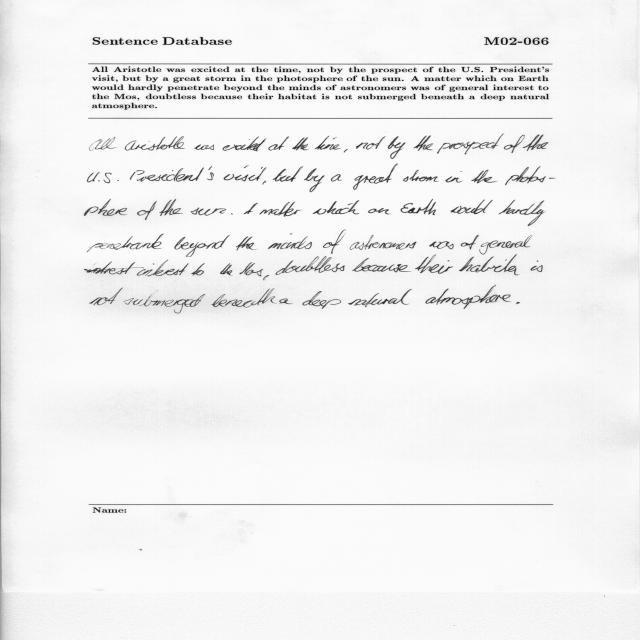word: (425, 285, 511, 309), (84, 260, 189, 276), (123, 294, 205, 313), (437, 134, 504, 155), (87, 234, 164, 252), (130, 166, 214, 182), (211, 288, 277, 308), (276, 256, 345, 275), (459, 255, 519, 276), (174, 235, 230, 257), (499, 200, 545, 226), (353, 164, 398, 190), (348, 289, 412, 307), (480, 235, 533, 254), (350, 235, 416, 250), (505, 166, 556, 185), (125, 136, 185, 151), (353, 258, 412, 272), (84, 199, 127, 216), (415, 255, 453, 274), (268, 233, 312, 249), (303, 291, 342, 309), (313, 200, 359, 215), (224, 165, 267, 181), (223, 137, 267, 152), (260, 202, 302, 217), (89, 288, 123, 306), (450, 200, 493, 214), (400, 199, 436, 215), (323, 230, 346, 254), (273, 166, 303, 182), (304, 168, 324, 192), (403, 170, 439, 182), (523, 135, 548, 152), (356, 136, 386, 150), (159, 199, 183, 216), (388, 136, 405, 159), (137, 201, 157, 220), (90, 137, 117, 151), (314, 136, 341, 150), (504, 135, 525, 153), (87, 172, 119, 183), (471, 170, 498, 183), (240, 263, 264, 277), (414, 135, 434, 151), (191, 207, 226, 216), (268, 137, 289, 151), (461, 235, 479, 250), (236, 237, 254, 251), (292, 138, 308, 151), (445, 171, 462, 183), (429, 242, 454, 250), (191, 263, 205, 276), (530, 260, 543, 272), (244, 203, 258, 214), (220, 264, 232, 276), (368, 208, 391, 214), (194, 144, 214, 150), (331, 174, 342, 182), (279, 299, 292, 304), (263, 275, 269, 280), (344, 149, 348, 153), (262, 181, 266, 184), (516, 302, 520, 304), (231, 213, 233, 215)
